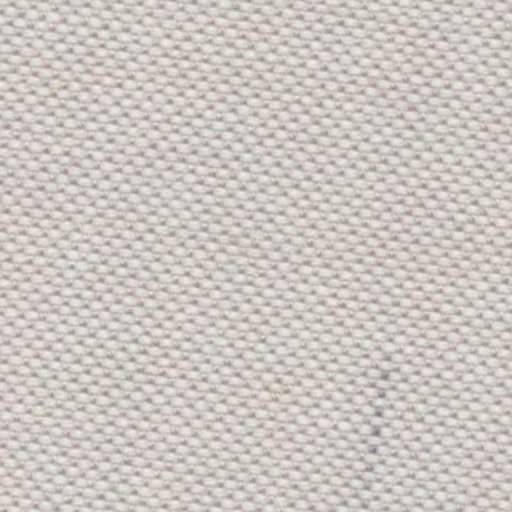WuZi: (353, 338, 394, 503)
